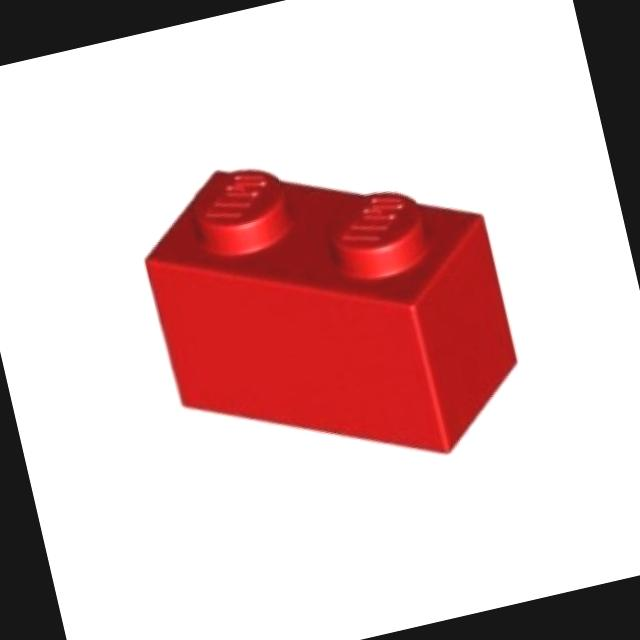1x2: (146, 169, 517, 450)
